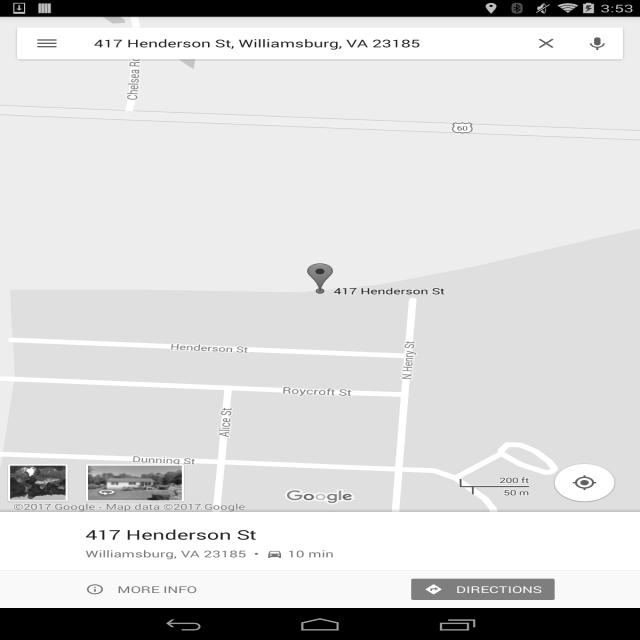Button: (10, 466, 66, 500)
EditText: (72, 27, 534, 59)
ImageButton: (572, 27, 623, 59)
ImageView: (0, 512, 640, 640), (88, 466, 182, 500), (550, 461, 619, 504), (10, 466, 66, 500), (285, 489, 355, 505), (93, 484, 119, 500), (34, 36, 60, 51), (533, 36, 559, 51), (424, 584, 443, 596), (86, 584, 104, 596), (266, 549, 283, 559)
TextView: (94, 27, 533, 59), (86, 526, 256, 544), (0, 501, 245, 512), (86, 548, 247, 560), (443, 583, 555, 596), (104, 583, 197, 596), (287, 548, 334, 560), (247, 548, 266, 560)
